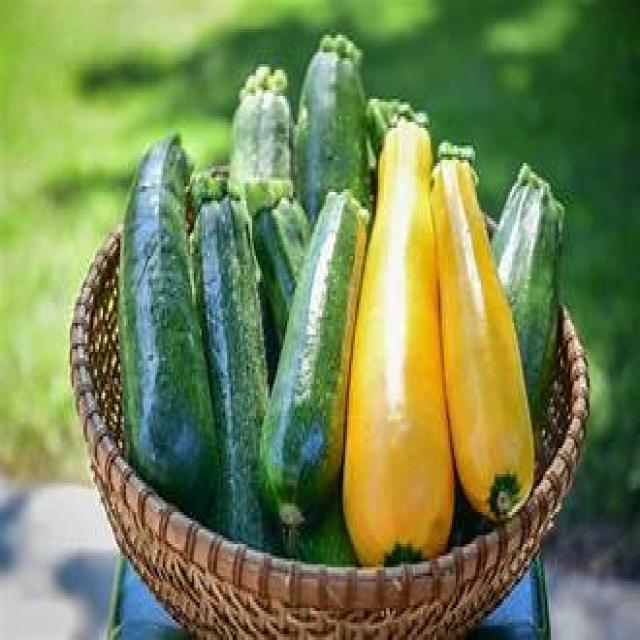Zucchini: (190, 180, 276, 540)
